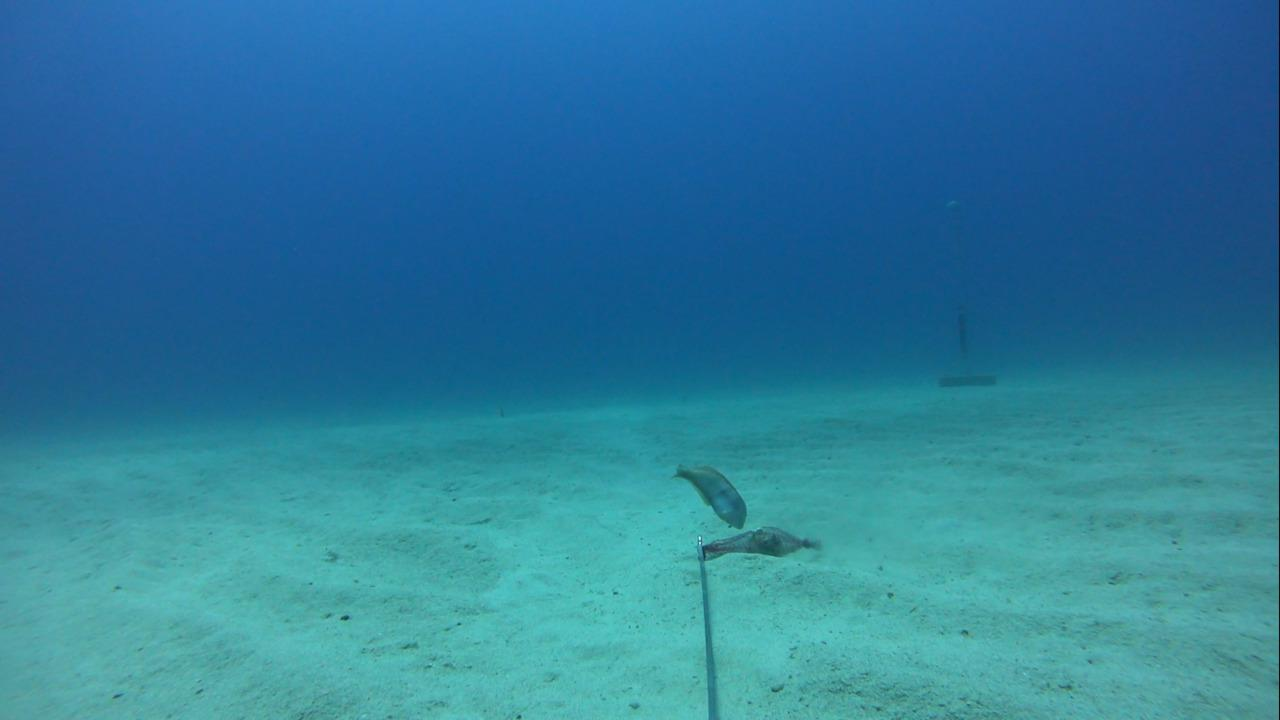raor: (655, 453, 755, 534)
